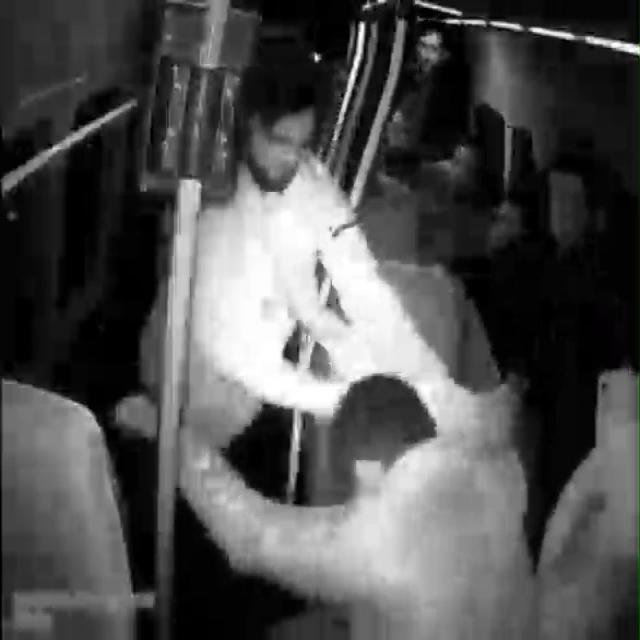fight: (166, 56, 554, 581)
